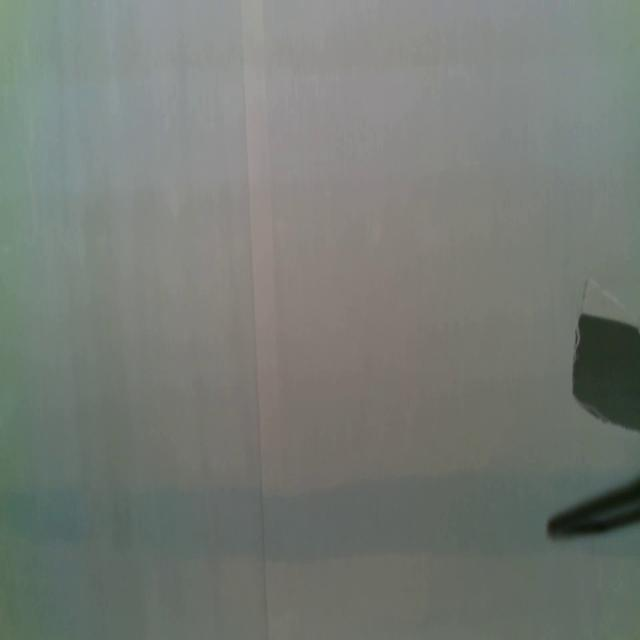color bleeding: (1, 464, 547, 558)
crease: (240, 0, 284, 640)
hole: (569, 308, 640, 433)
